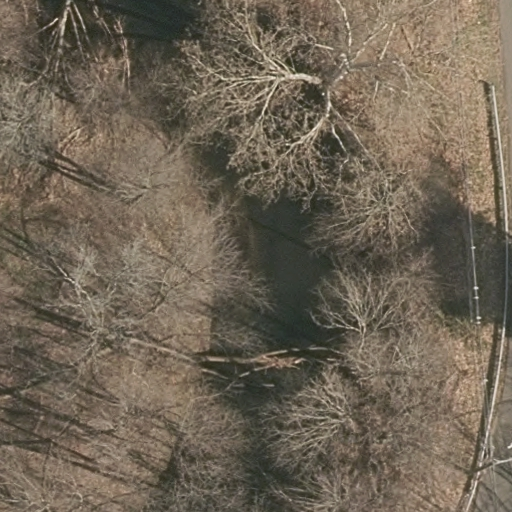DT: (460, 438, 512, 487)
